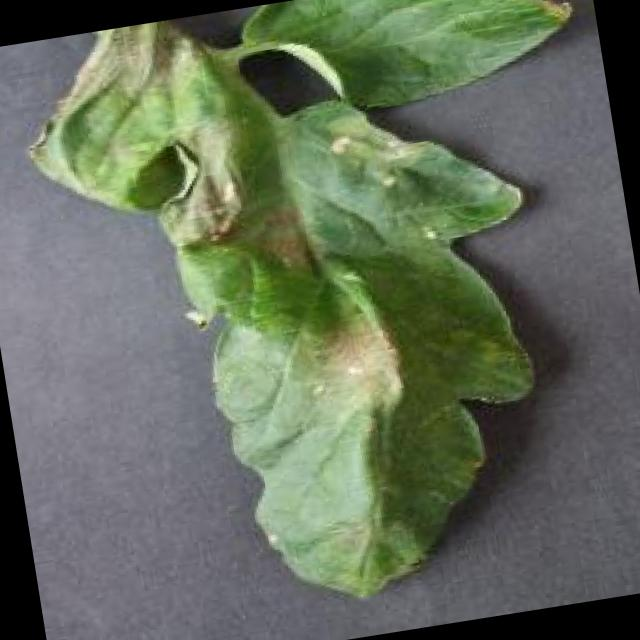Tomato_Late_Blight: (50, 0, 431, 449)
